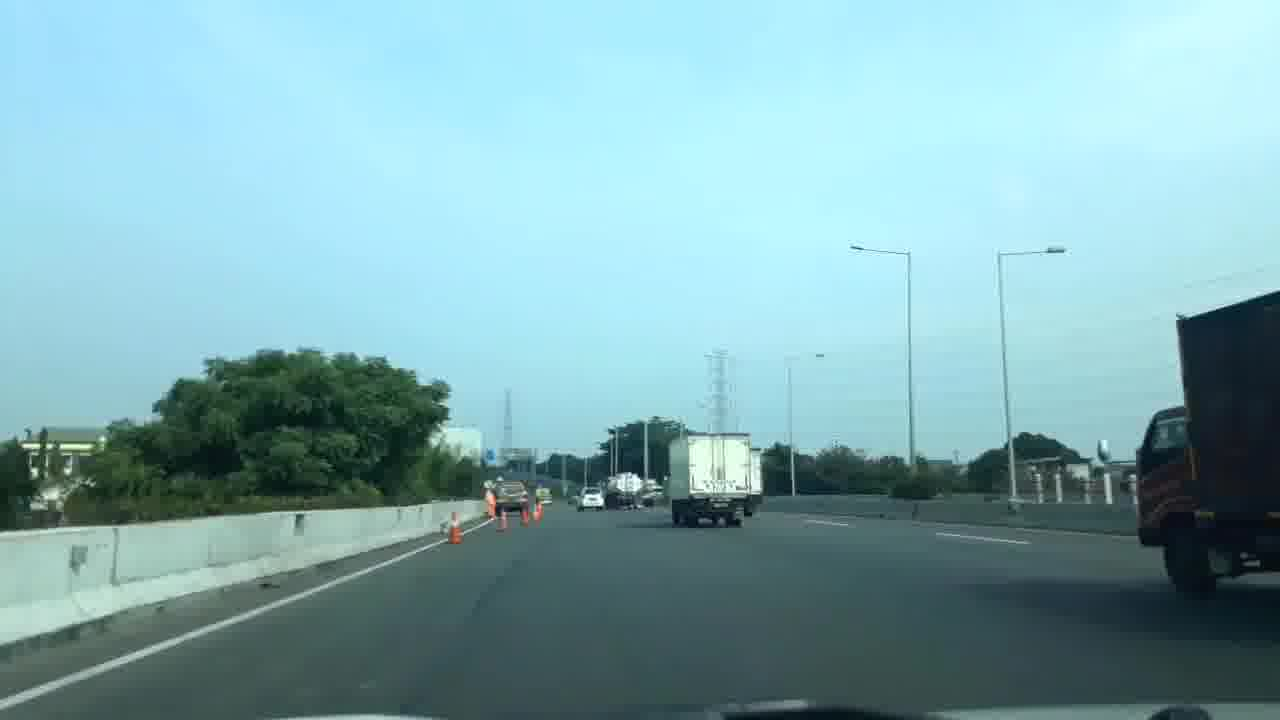plate_positive: (712, 503, 729, 509)
